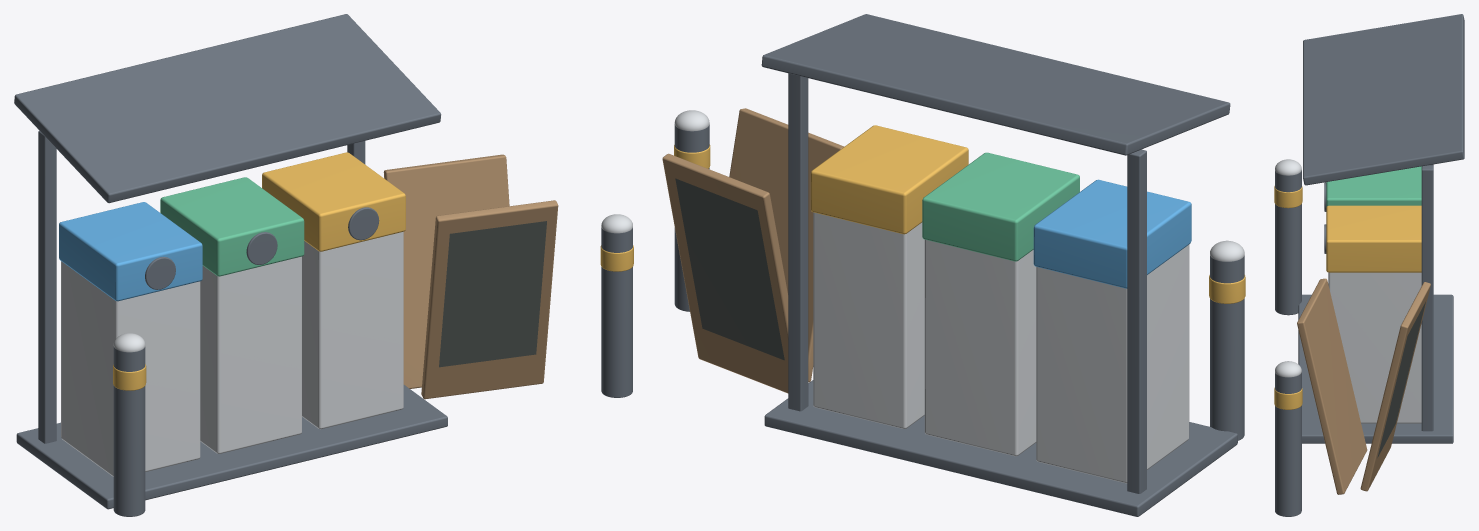
File: street_recycling_station_a_board_v10.glb
3 views of the same model, side by side, from view 1: azimuth 30°, elevation 25°; view 2: azimuth 150°, elevation 25°; view 3: azimuth 270°, elevation 25° (orthographic). The views are drawn at different scales.
Visible parts, largest first — view 1: V10_ShelterSlopedRoof, V10_RecycleBinBody, V10_RecycleBinBody.002, V10_RecycleBinBody.001, V10_ABoardChalkFace, V10_StationBasePad, V10_ABoardWoodFrame.001, V10_ABoardWoodFrame, V10_RecycleColorHood, V10_RecycleColorHood.001, V10_RecycleColorHood.002, V10_ShelterSidePost (+5 smaller); view 2: V10_ShelterSlopedRoof, V10_RecycleBinBody, V10_RecycleBinBody.001, V10_RecycleBinBody.002, V10_StationBasePad, V10_ABoardChalkFace.001, V10_RecycleColorHood.002, V10_RecycleColorHood.001, V10_RecycleColorHood, V10_ABoardWoodFrame.001, V10_ShelterSidePost.001, V10_ABoardWoodFrame (+4 smaller); view 3: V10_ShelterSlopedRoof, V10_RecycleBinBody.002, V10_ABoardWoodFrame, V10_RecycleColorHood.002, V10_StationBasePad, V10_StreetSteelBollard.001, V10_StreetSteelBollard, V10_ShelterSidePost.001, V10_RecycleColorHood.001, V10_ABoardWoodFrame.001, V10_ABoardChalkFace.001, V10_BollardReflectBand (+3 smaller).
Boxes of the visible parts, x1,y1,x2,y2 form: V10_ShelterSlopedRoof: (14,14,441,203); V10_RecycleBinBody: (61,261,200,476); V10_RecycleBinBody.002: (302,231,403,429); V10_RecycleBinBody.001: (200,256,301,453); V10_ABoardChalkFace: (439,221,546,367); V10_StationBasePad: (16,385,447,509); V10_ABoardWoodFrame.001: (383,154,509,388); V10_ABoardWoodFrame: (421,200,558,399); V10_RecycleColorHood: (59,202,202,301); V10_RecycleColorHood.001: (160,177,304,276); V10_RecycleColorHood.002: (262,152,405,251); V10_ShelterSidePost: (38,131,56,443); V10_ShelterSlopedRoof: (761,14,1230,155); V10_RecycleBinBody: (1036,244,1189,483); V10_RecycleBinBody.001: (924,239,1036,456); V10_RecycleBinBody.002: (813,212,924,428); V10_StationBasePad: (764,380,1237,516); V10_ABoardChalkFace.001: (675,178,784,360); V10_RecycleColorHood.002: (810,125,968,234); V10_RecycleColorHood.001: (922,152,1079,261); V10_RecycleColorHood: (1033,179,1191,288); V10_ABoardWoodFrame.001: (662,153,788,393); V10_ShelterSidePost.001: (788,73,808,411); V10_ABoardWoodFrame: (729,108,844,382); V10_ShelterSlopedRoof: (1303,14,1464,185); V10_RecycleBinBody.002: (1328,272,1421,423); V10_ABoardWoodFrame: (1297,278,1367,494); V10_RecycleColorHood.002: (1326,205,1421,272); V10_StationBasePad: (1298,294,1453,443); V10_StreetSteelBollard.001: (1275,372,1301,516); V10_StreetSteelBollard: (1275,170,1301,315); V10_ShelterSidePost.001: (1421,165,1433,431); V10_RecycleColorHood.001: (1326,166,1421,206); V10_ABoardWoodFrame.001: (1360,282,1430,491); V10_ABoardChalkFace.001: (1377,301,1425,457); V10_BollardReflectBand: (1274,186,1302,208).
Bounding box in the file's own units: 2.55 × 1.63 × 0.9574.
